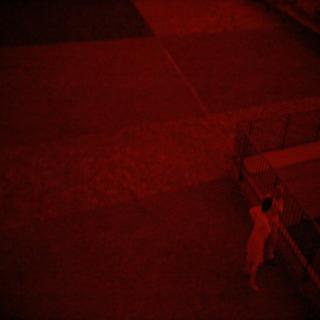person: (244, 192, 277, 292)
